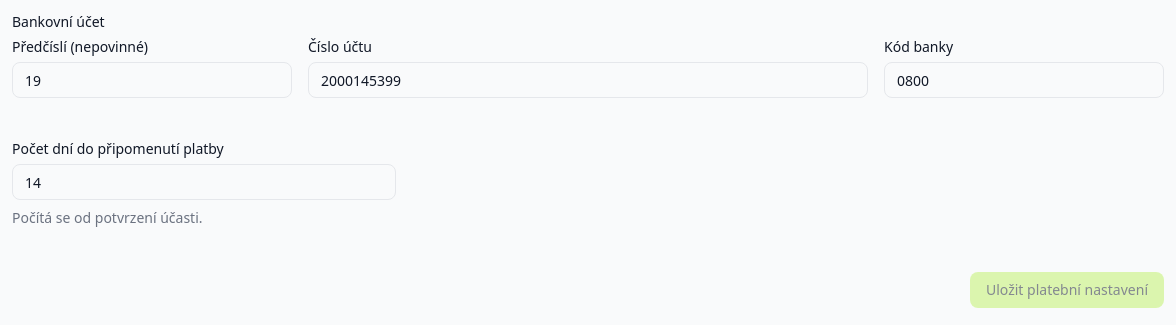
PaymentSettingsForm › rejects 0 reminder days
Replace the text in the field labelled "Počet dní do připomenutí platby" with "0" at (204, 182), box [12,164,396,200]
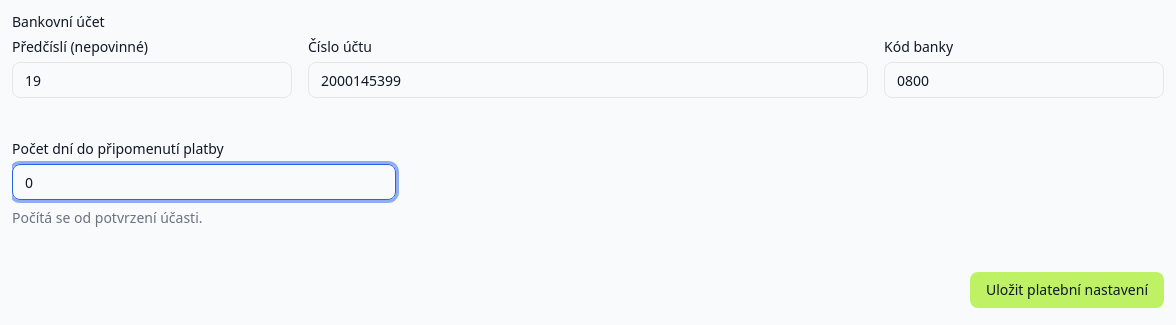
Click the button "Uložit platební nastavení".
click(1067, 290)  # box [970,272,1164,308]
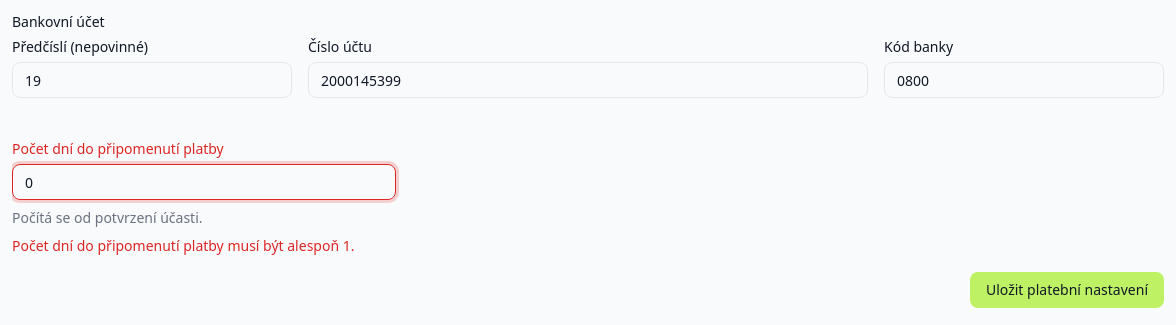
Result: the text "Počet dní do připomenutí platby musí být alespoň 1." is shown at [12,236,396,256]
